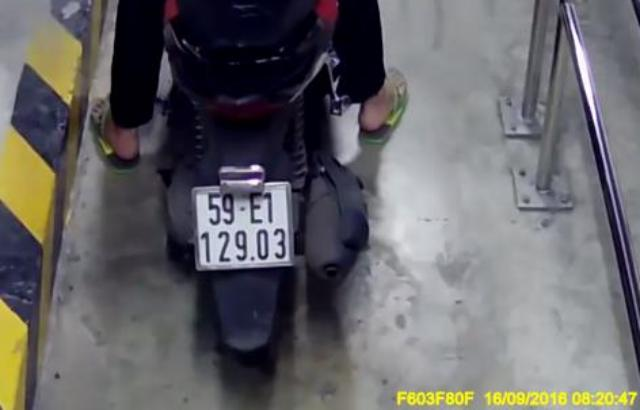plate: (182, 180, 314, 272)
